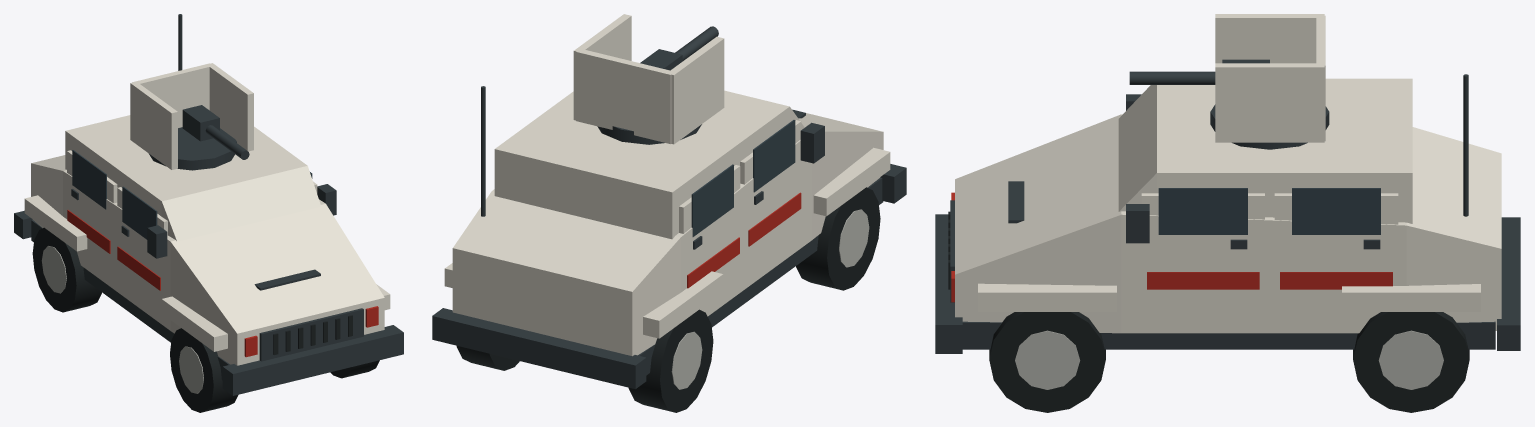
3 renders of one model, left to right at view 1: azimuth 30°, elevation 25°; view 2: azimuth 150°, elevation 25°; view 3: azimuth 270°, elevation 25°, orthographic. The views are drawn at different scales.
Parts seen in each view (by area): view 1: humvee-fleet-armor, humvee-fleet-machine, turret-fleet-armor, wheel--1--1.54-fleet-rubber, wheel--1-1.52-fleet-rubber, humvee-fleet-glass, humvee-fleet-red, turret-fleet-machine, barrel-fleet-machine, wheel--1--1.54-fleet-edge, wheel--1-1.52-fleet-edge, humvee-fleet-rubber (+1 smaller); view 2: humvee-fleet-armor, turret-fleet-armor, humvee-fleet-machine, wheel--1-1.52-fleet-rubber, wheel--1--1.54-fleet-rubber, humvee-fleet-glass, humvee-fleet-red, wheel--1-1.52-fleet-edge, wheel--1--1.54-fleet-edge, barrel-fleet-machine, wheel-1--1.54-fleet-rubber, turret-fleet-machine; view 3: humvee-fleet-armor, humvee-fleet-machine, turret-fleet-armor, humvee-fleet-glass, wheel-1-1.52-fleet-rubber, wheel-1--1.54-fleet-rubber, humvee-fleet-red, wheel-1--1.54-fleet-edge, wheel-1-1.52-fleet-edge, barrel-fleet-machine, turret-fleet-machine.
Boxes of the visible parts, x1=… form: humvee-fleet-armor: x1=24, y1=115, x2=390, y2=365; humvee-fleet-machine: x1=14, y1=14, x2=403, y2=395; turret-fleet-armor: x1=130, y1=63, x2=253, y2=169; wheel--1--1.54-fleet-rubber: x1=32, y1=227, x2=101, y2=312; wheel--1-1.52-fleet-rubber: x1=170, y1=328, x2=238, y2=412; humvee-fleet-glass: x1=72, y1=150, x2=312, y2=239; humvee-fleet-red: x1=67, y1=210, x2=378, y2=357; turret-fleet-machine: x1=149, y1=127, x2=236, y2=170; barrel-fleet-machine: x1=182, y1=105, x2=249, y2=159; wheel--1--1.54-fleet-edge: x1=41, y1=246, x2=66, y2=293; wheel--1-1.52-fleet-edge: x1=179, y1=346, x2=203, y2=393; humvee-fleet-rubber: x1=273, y1=315, x2=352, y2=354; humvee-fleet-armor: x1=444, y1=90, x2=890, y2=356; turret-fleet-armor: x1=573, y1=14, x2=724, y2=144; humvee-fleet-machine: x1=432, y1=86, x2=906, y2=389; wheel--1-1.52-fleet-rubber: x1=796, y1=187, x2=880, y2=290; wheel--1--1.54-fleet-rubber: x1=628, y1=309, x2=713, y2=412; humvee-fleet-glass: x1=691, y1=120, x2=795, y2=236; humvee-fleet-red: x1=687, y1=192, x2=801, y2=288; wheel--1-1.52-fleet-edge: x1=839, y1=209, x2=869, y2=267; wheel--1--1.54-fleet-edge: x1=671, y1=331, x2=702, y2=389; barrel-fleet-machine: x1=640, y1=26, x2=718, y2=70; wheel-1--1.54-fleet-rubber: x1=456, y1=346, x2=519, y2=370; turret-fleet-machine: x1=597, y1=124, x2=701, y2=144; humvee-fleet-armor: x1=955, y1=78, x2=1501, y2=333; humvee-fleet-machine: x1=935, y1=74, x2=1520, y2=353; turret-fleet-armor: x1=1215, y1=14, x2=1325, y2=142; humvee-fleet-glass: x1=1158, y1=188, x2=1380, y2=234; wheel-1-1.52-fleet-rubber: x1=989, y1=312, x2=1105, y2=412; wheel-1--1.54-fleet-rubber: x1=1353, y1=312, x2=1469, y2=412; humvee-fleet-red: x1=951, y1=192, x2=1392, y2=302; wheel-1--1.54-fleet-edge: x1=1378, y1=330, x2=1443, y2=389; wheel-1-1.52-fleet-edge: x1=1015, y1=330, x2=1080, y2=389; barrel-fleet-machine: x1=1129, y1=59, x2=1269, y2=84; turret-fleet-machine: x1=1210, y1=104, x2=1329, y2=149.
Size of the model in its own units: 12.64 by 16.35 by 26.84.
